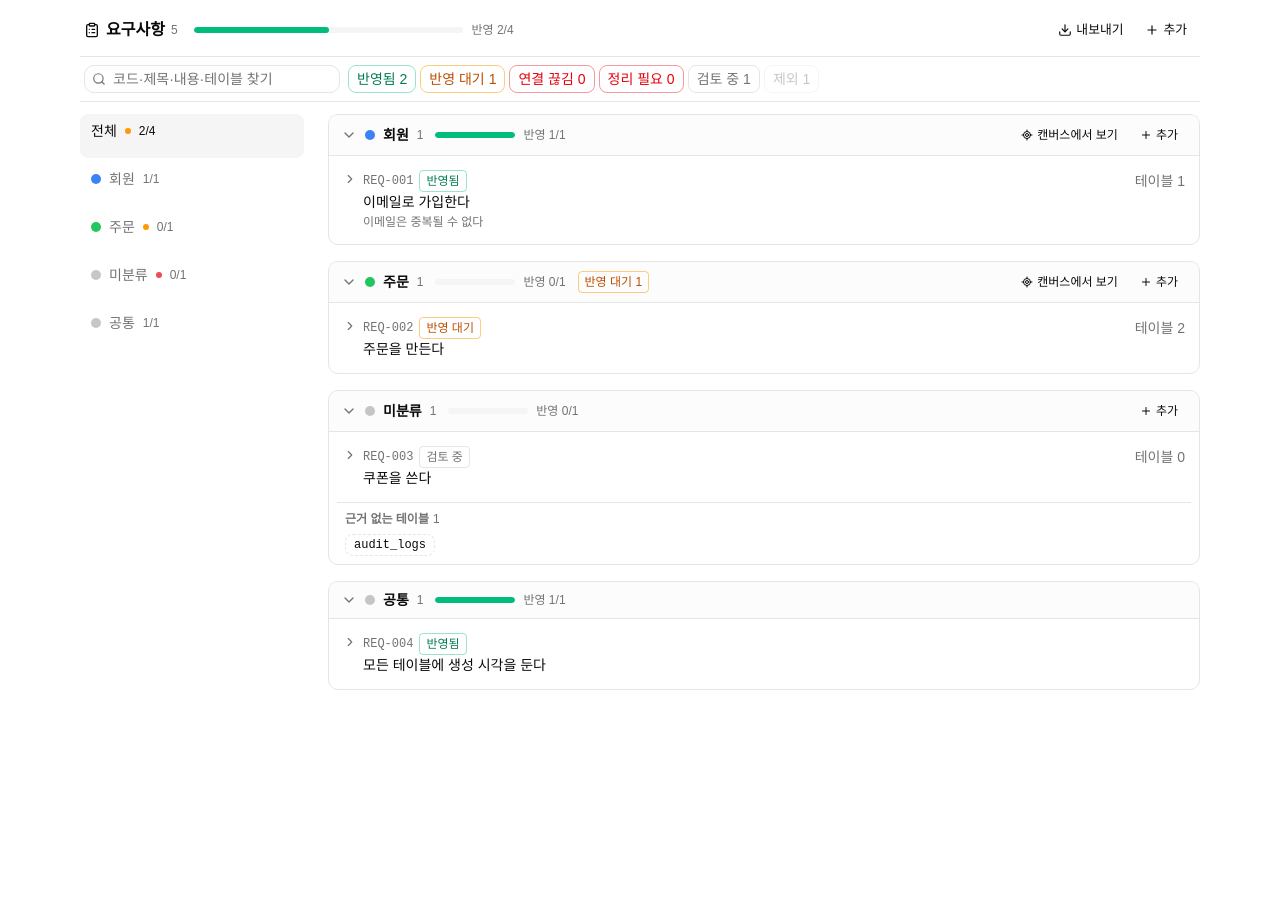
it: RequirementsPanel › 반영 대기 행의 "반영함으로 표시"는 appliedRevision을 revision에 맞춘다
The image size is (1280, 900).
Click the text "주문을 만든다". click: click(404, 349)
box: [363, 341, 444, 357]
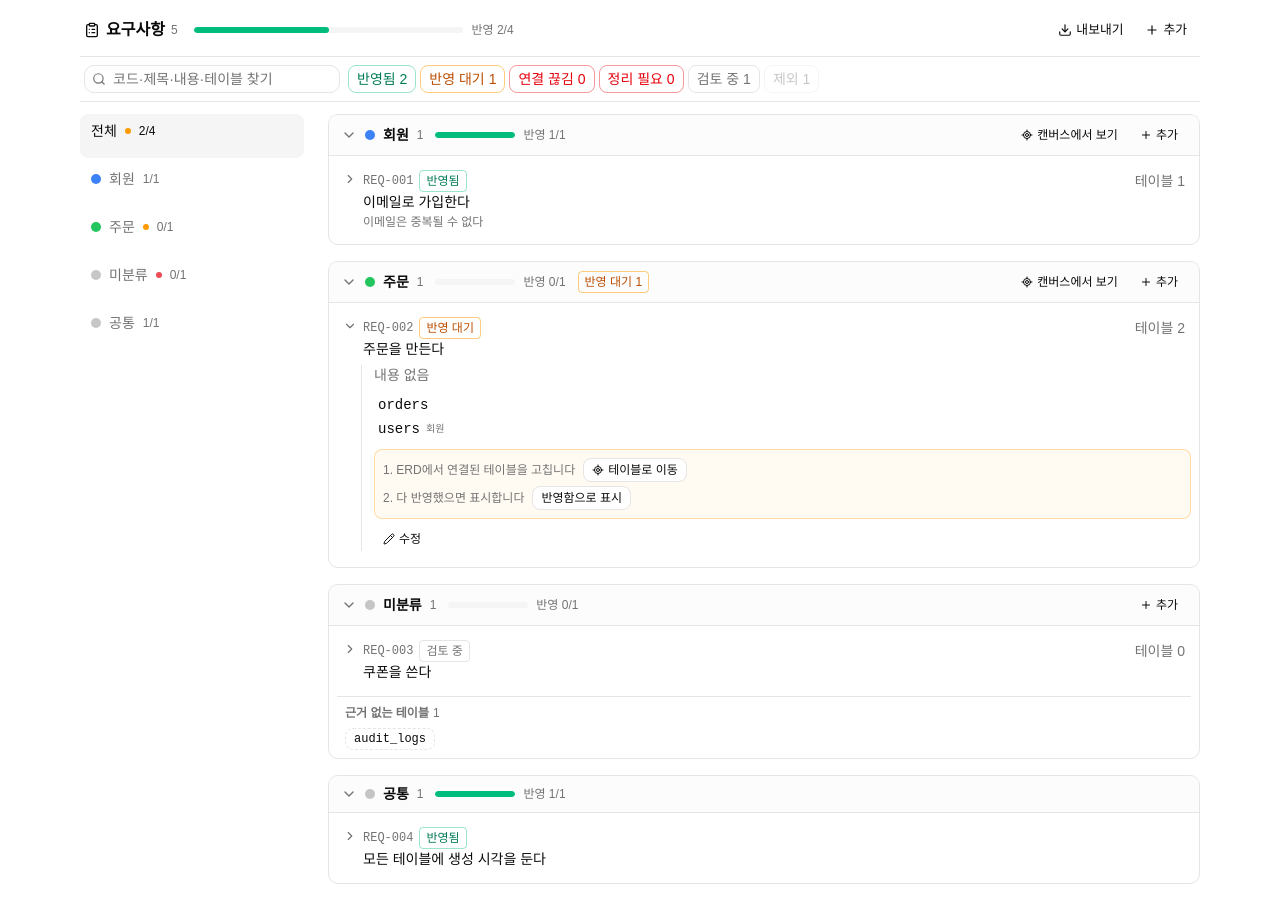
Click the button with test id "requirement-mark-applied". click: click(582, 498)
box: [532, 486, 631, 510]
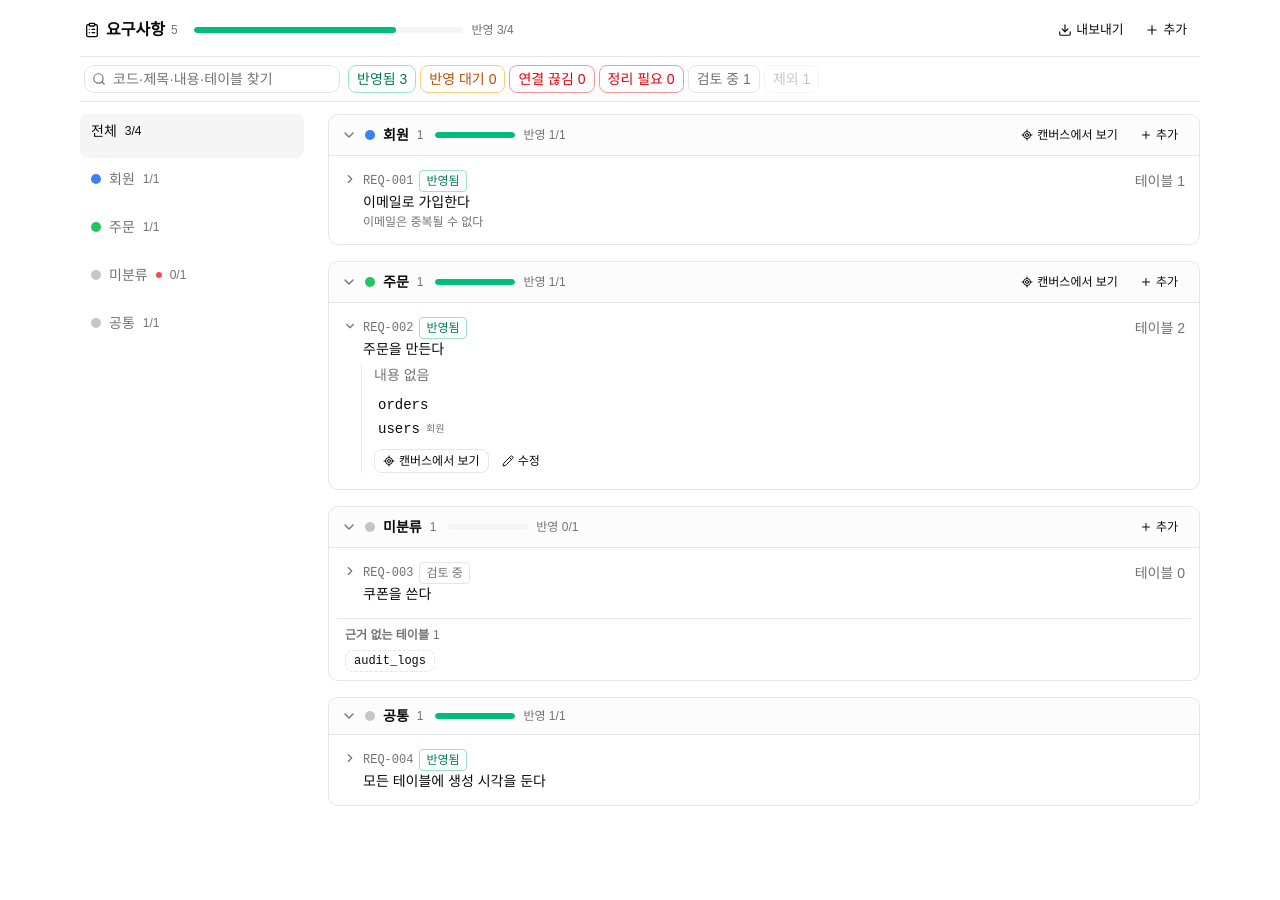
expect the button with test id "requirement-mark-applied" is gone: met
